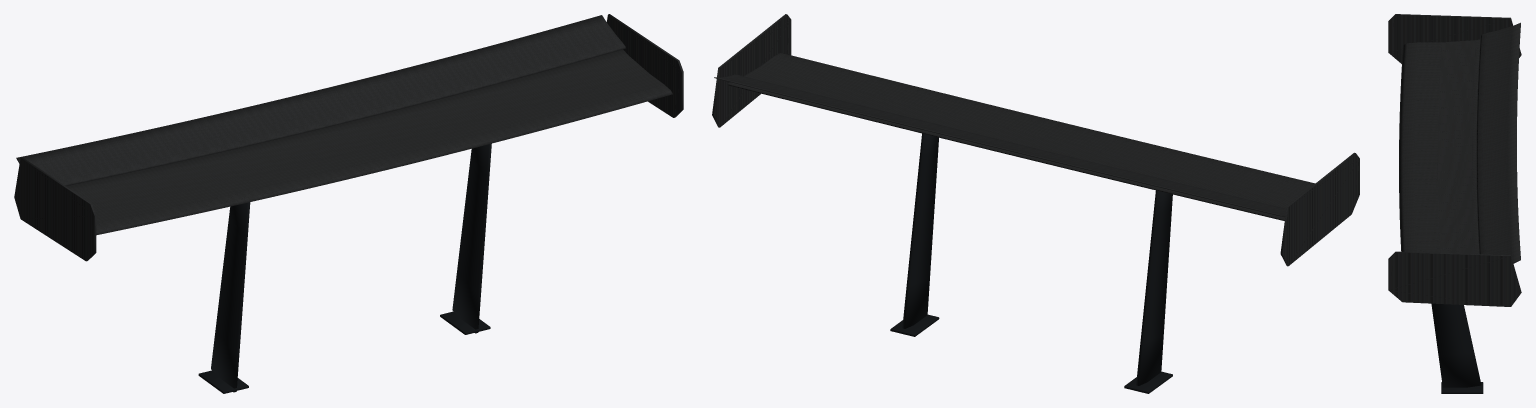
The model's file is RA61_time_attack_wing.glb.
3 views of the same model, side by side, from view 1: azimuth 30°, elevation 25°; view 2: azimuth 150°, elevation 25°; view 3: azimuth 270°, elevation 25° (orthographic). The views are drawn at different scales.
Parts seen in each view (by area): view 1: MOD_ND_RA61_main, MOD_ND_RA61_flap, MOD_ND_RA61_endplate_R, MOD_ND_RA61_upright_R, MOD_ND_RA61_upright_L, MOD_ND_RA61_endplate_L; view 2: MOD_ND_RA61_main, MOD_ND_RA61_flap, MOD_ND_RA61_endplate_R, MOD_ND_RA61_upright_R, MOD_ND_RA61_upright_L, MOD_ND_RA61_endplate_L; view 3: MOD_ND_RA61_main, MOD_ND_RA61_flap, MOD_ND_RA61_endplate_L, MOD_ND_RA61_endplate_R, MOD_ND_RA61_upright_L, MOD_ND_RA61_foot_L.
Boxes of the visible parts, left/top/right/bottom form: MOD_ND_RA61_main: left=66, top=49, right=672, bottom=235; MOD_ND_RA61_flap: left=16, top=15, right=625, bottom=185; MOD_ND_RA61_endplate_R: left=14, top=157, right=96, bottom=261; MOD_ND_RA61_upright_R: left=211, top=202, right=250, bottom=392; MOD_ND_RA61_upright_L: left=452, top=143, right=491, bottom=333; MOD_ND_RA61_endplate_L: left=607, top=14, right=683, bottom=117; MOD_ND_RA61_main: left=727, top=53, right=1315, bottom=220; MOD_ND_RA61_flap: left=714, top=74, right=1286, bottom=217; MOD_ND_RA61_endplate_R: left=1280, top=152, right=1359, bottom=266; MOD_ND_RA61_upright_R: left=1136, top=190, right=1172, bottom=385; MOD_ND_RA61_upright_L: left=902, top=133, right=938, bottom=328; MOD_ND_RA61_endplate_L: left=712, top=14, right=791, bottom=127; MOD_ND_RA61_main: left=1399, top=39, right=1480, bottom=254; MOD_ND_RA61_flap: left=1476, top=22, right=1520, bottom=263; MOD_ND_RA61_endplate_L: left=1388, top=251, right=1521, bottom=306; MOD_ND_RA61_endplate_R: left=1388, top=14, right=1521, bottom=63; MOD_ND_RA61_upright_L: left=1431, top=303, right=1481, bottom=387; MOD_ND_RA61_foot_L: left=1441, top=382, right=1483, bottom=393.
Bounding box in the file's own units: 1.61 × 0.6567 × 0.38.
2 materials, 1 textured.
